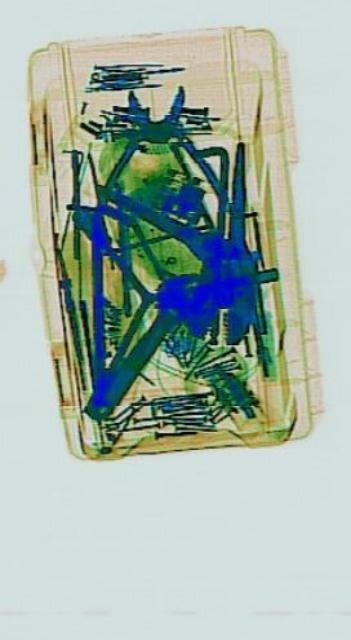Pliers: (88, 77, 223, 219)
